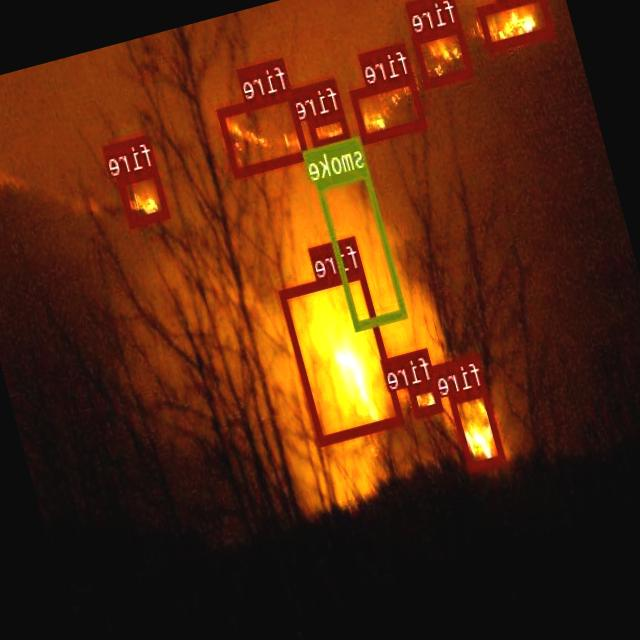fire: (278, 266, 406, 444), (217, 86, 310, 175), (350, 71, 428, 142), (450, 384, 507, 470), (412, 20, 475, 86), (477, 0, 555, 50), (118, 165, 170, 225), (308, 109, 352, 148), (409, 378, 444, 416)
smoke: (316, 166, 408, 330)
